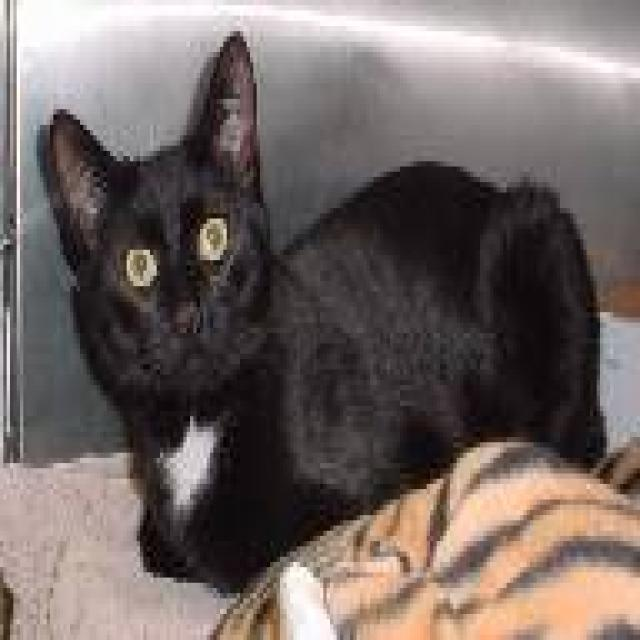cat: (36, 26, 606, 593)
